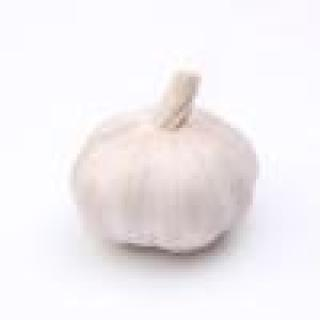Bawang Putih: (75, 62, 273, 270)
